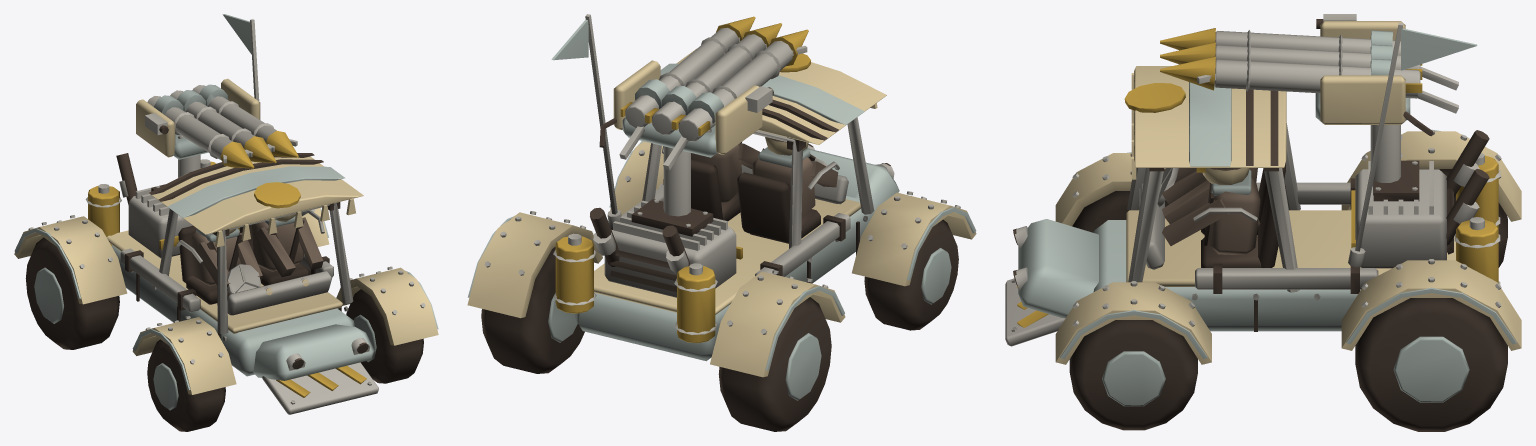
File: lancer.glb
The picture shows the model from 3 angles, left to right: view 1: azimuth 30°, elevation 25°; view 2: azimuth 150°, elevation 25°; view 3: azimuth 270°, elevation 25°; orthographic projection. The views are drawn at different scales.
Visible parts, largest first — view 1: Fenders, Wheels, Sun_canopy, Body_tub, Nose_cowl, Barrel_harpoon, Deck, Canopy_band, Roll_cage, Skid_plate, Crew_arms, Wheel_hubs (+24 smaller); view 2: Fenders, Wheels, Barrel_harpoon, Body_tub, Seats, Water_cans, Deck, Engine_block, Wheel_hubs, Sun_canopy, Roll_cage, Turret_head_cheeks (+24 smaller); view 3: Wheels, Fenders, Barrel_harpoon, Body_tub, Sun_canopy, Wheel_hubs, Engine_block, Deck, Nose_cowl, Turret_head_cheeks, Roll_cage, Side_rails (+24 smaller).
Part boxes in pixels (x1=…): Fenders: x1=14, y1=208, x2=438, y2=394; Wheels: x1=25, y1=237, x2=423, y2=431; Sun_canopy: x1=149, y1=156, x2=363, y2=234; Body_tub: x1=111, y1=245, x2=354, y2=376; Nose_cowl: x1=253, y1=324, x2=374, y2=380; Barrel_harpoon: x1=147, y1=85, x2=276, y2=160; Deck: x1=107, y1=230, x2=342, y2=333; Canopy_band: x1=167, y1=166, x2=344, y2=217; Roll_cage: x1=159, y1=203, x2=353, y2=333; Skid_plate: x1=262, y1=362, x2=378, y2=414; Crew_arms: x1=195, y1=217, x2=323, y2=290; Wheel_hubs: x1=34, y1=267, x2=376, y2=410; Fenders: x1=467, y1=141, x2=976, y2=377; Wheels: x1=481, y1=219, x2=958, y2=431; Barrel_harpoon: x1=625, y1=27, x2=792, y2=141; Body_tub: x1=574, y1=196, x2=874, y2=361; Seats: x1=691, y1=159, x2=820, y2=243; Water_cans: x1=555, y1=236, x2=715, y2=343; Deck: x1=594, y1=199, x2=860, y2=314; Engine_block: x1=604, y1=226, x2=736, y2=297; Wheel_hubs: x1=548, y1=248, x2=951, y2=400; Sun_canopy: x1=676, y1=48, x2=886, y2=144; Roll_cage: x1=642, y1=117, x2=874, y2=265; Turret_head_cheeks: x1=613, y1=60, x2=762, y2=154; Wheels: x1=1069, y1=169, x2=1507, y2=431; Fenders: x1=1055, y1=131, x2=1521, y2=364; Barrel_harpoon: x1=1214, y1=31, x2=1420, y2=98; Body_tub: x1=1093, y1=220, x2=1360, y2=331; Sun_canopy: x1=1134, y1=66, x2=1286, y2=167; Wheel_hubs: x1=1102, y1=336, x2=1469, y2=406; Engine_block: x1=1355, y1=169, x2=1446, y2=268; Deck: x1=1126, y1=210, x2=1455, y2=286; Nose_cowl: x1=1018, y1=219, x2=1098, y2=318; Turret_head_cheeks: x1=1320, y1=21, x2=1405, y2=124; Roll_cage: x1=1127, y1=123, x2=1300, y2=292; Side_rails: x1=1195, y1=182, x2=1378, y2=289.
Size of the model in its own units: 2.47 by 2.75 by 3.38.
